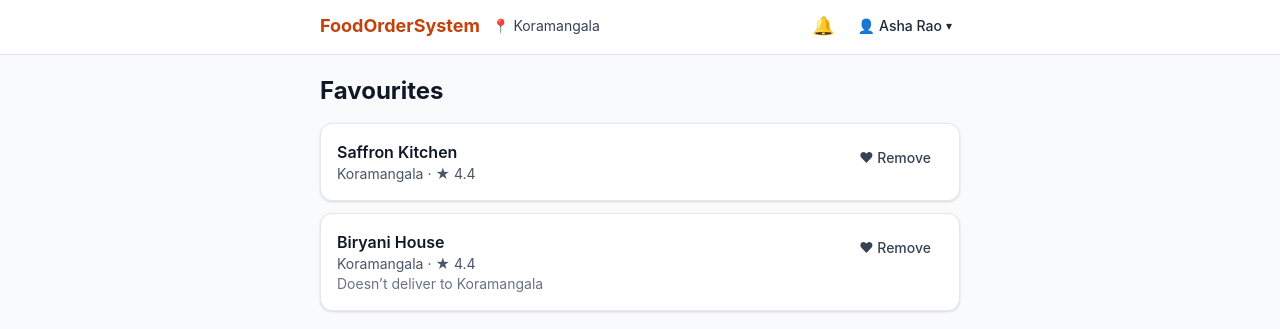
Test case: customer account area › removes a favourite restaurant
The image size is (1280, 329).
expect the text "Doesn’t deliver to Koramangala" is shown: met, box [337,274,543,294]
Click the button with aria-label "Remove Saffron Kitchen from favourites".
click(895, 158)  # box [847,140,943,176]
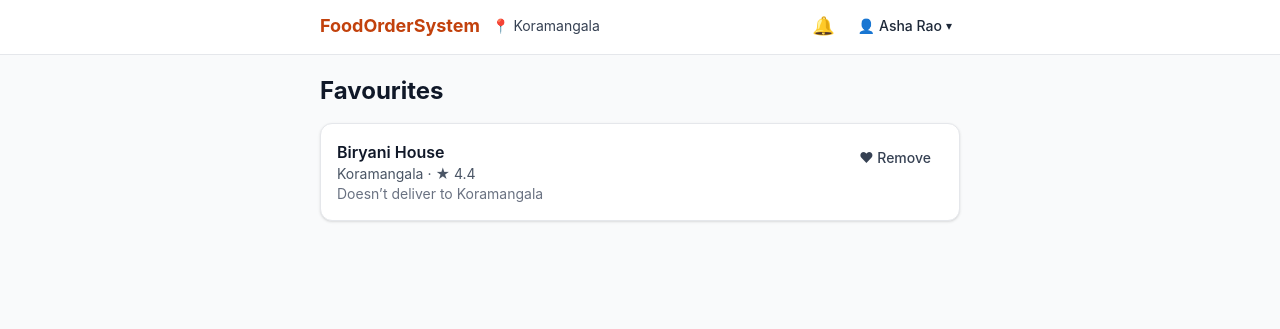
expect the link "Biryani House" is shown: met, box [337,142,444,162]
expect the link "Saffron Kitchen" is gone: met
